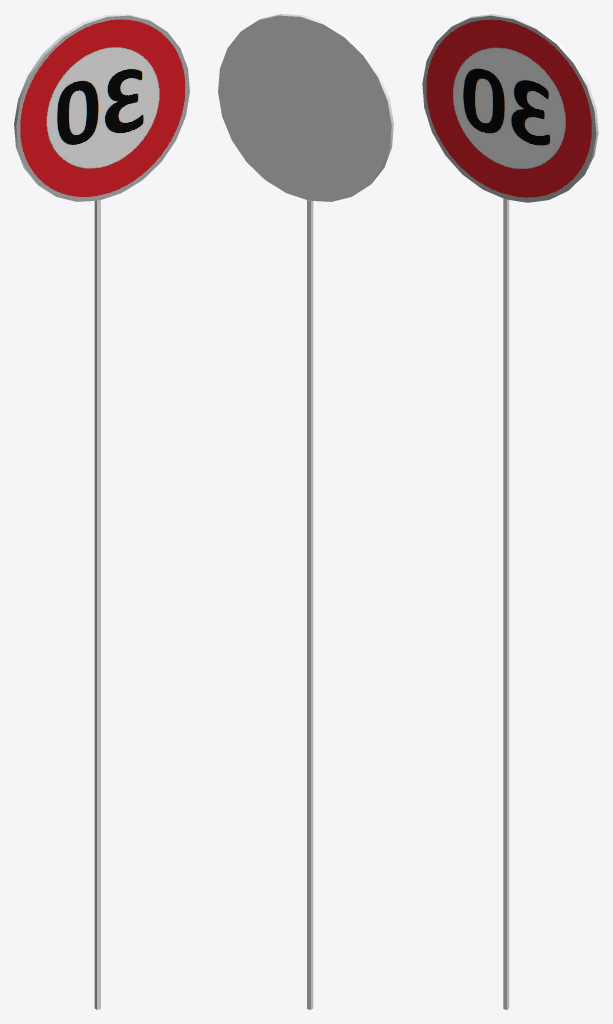
File: trafik_levha_azami_hiz_30.obj
3 views of the same model, side by side, from view 1: azimuth 30°, elevation 25°; view 2: azimuth 150°, elevation 25°; view 3: azimuth 330°, elevation 25° (orthographic).
Parts seen in each view (by area): view 1: Mesh2 Group3 Group1 Model, Mesh1 Group2 Group1 Model; view 2: Mesh2 Group3 Group1 Model, Mesh1 Group2 Group1 Model; view 3: Mesh2 Group3 Group1 Model, Mesh1 Group2 Group1 Model.
Part boxes in pixels (<box>): Mesh2 Group3 Group1 Model: <box>14,14,189,201</box>; Mesh1 Group2 Group1 Model: <box>94,200,100,1009</box>; Mesh2 Group3 Group1 Model: <box>218,14,393,201</box>; Mesh1 Group2 Group1 Model: <box>307,200,313,1009</box>; Mesh2 Group3 Group1 Model: <box>422,14,598,202</box>; Mesh1 Group2 Group1 Model: <box>503,198,509,1009</box>.
Size of the model in its own units: 450 by 2450 by 10.
Materials: 3 (1 with a texture image).
